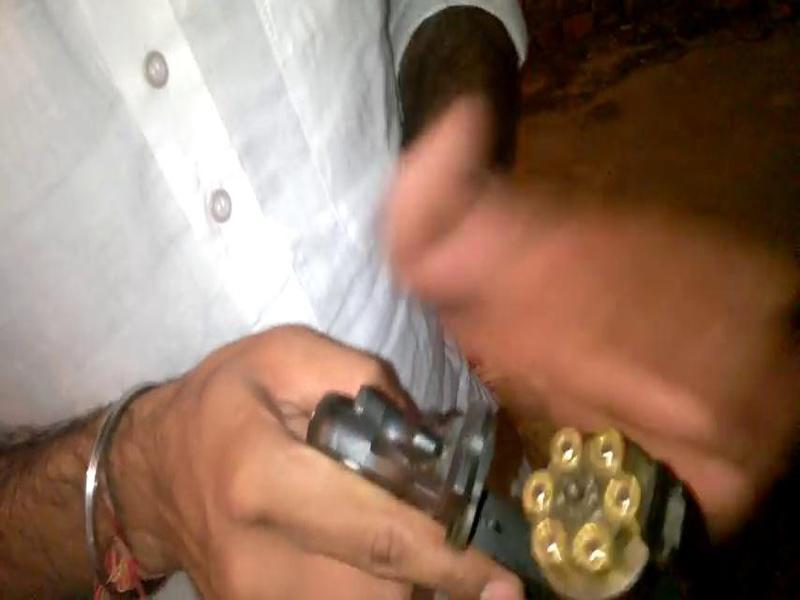Revolver: (284, 364, 748, 600)
